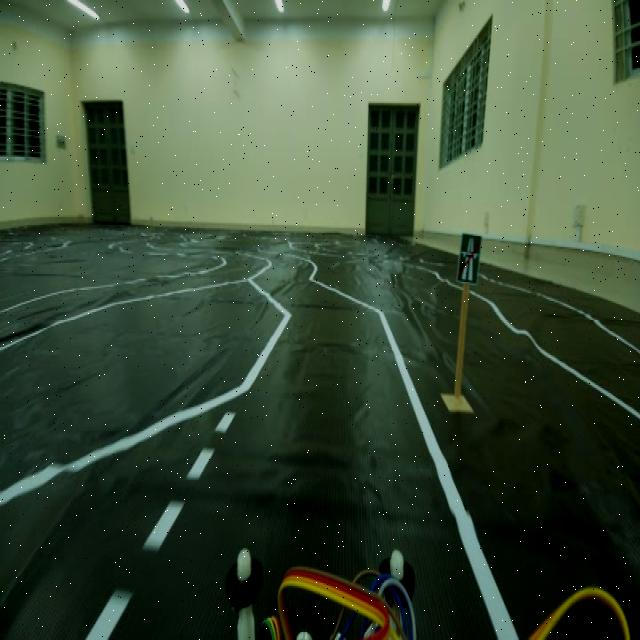highway_exit: (452, 226, 483, 292)
